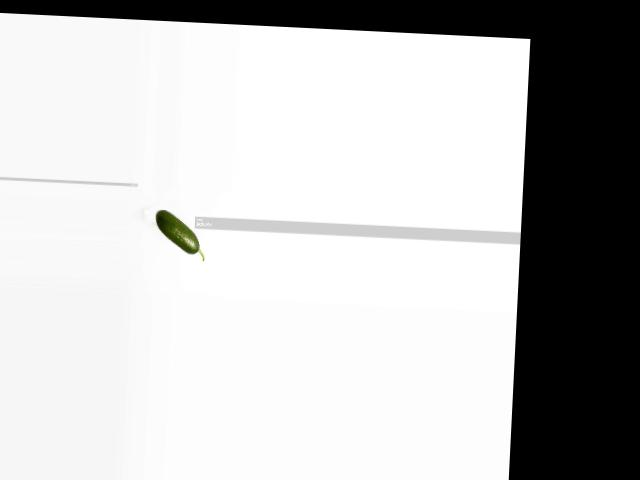cucumber: (154, 209, 208, 260)
